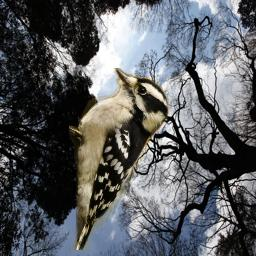Woodpecker: (69, 68, 169, 250)
